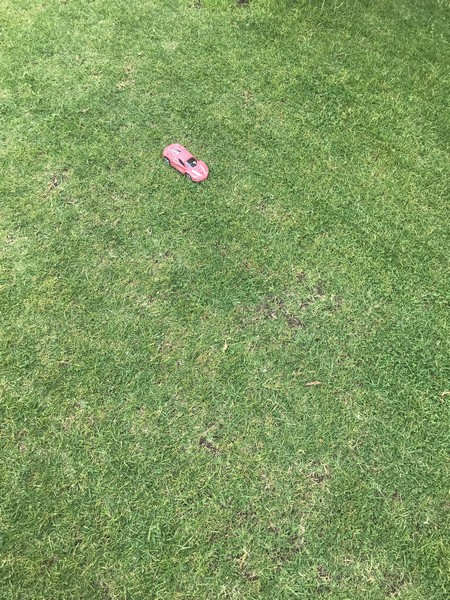RC: (162, 142, 211, 184)
